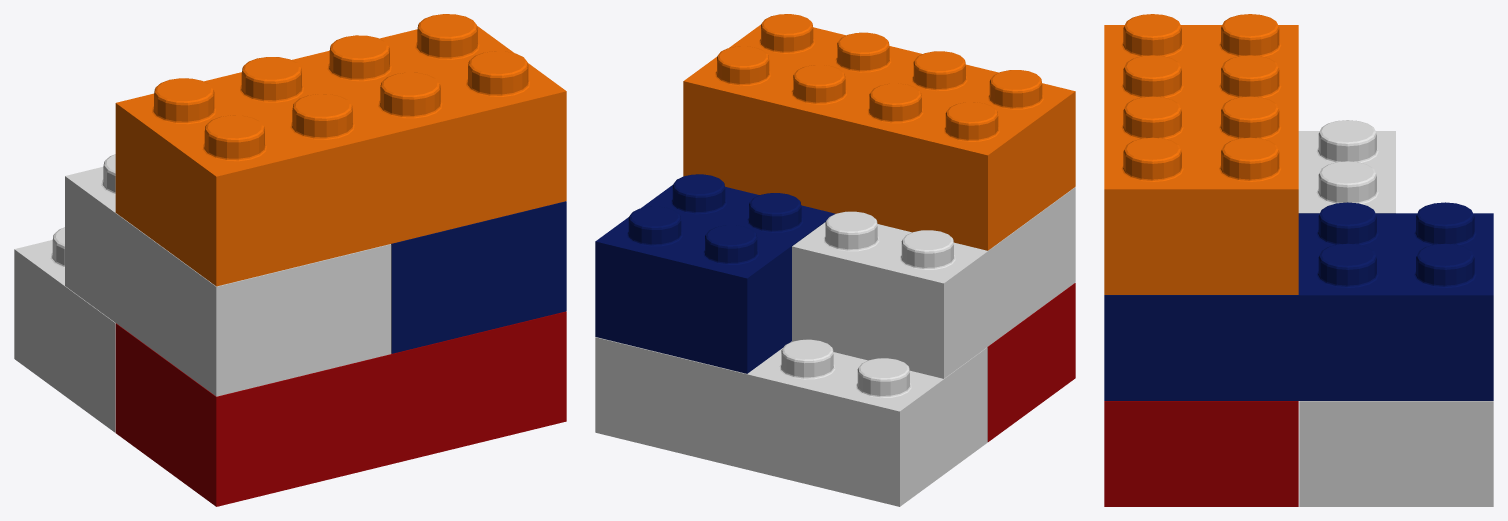
The model's file is mod1.dae.
The picture shows the model from 3 angles, left to right: view 1: azimuth 30°, elevation 25°; view 2: azimuth 150°, elevation 25°; view 3: azimuth 270°, elevation 25°; orthographic projection. The views are drawn at different scales.
Visible parts, largest first — view 1: Part.3, Part.1, Part.4, Part.2, Part.0; view 2: Part.3, Part.0, Part.4, Part.2, Part.1; view 3: Part.2, Part.3, Part.0, Part.1, Part.4.
Boxes of the visible parts, left/top/right/bottom form: Part.3: left=115, top=14, right=566, bottom=286; Part.1: left=115, top=311, right=566, bottom=506; Part.4: left=65, top=154, right=391, bottom=396; Part.2: left=391, top=201, right=566, bottom=353; Part.0: left=14, top=227, right=115, bottom=432; Part.3: left=683, top=14, right=1075, bottom=250; Part.0: left=595, top=337, right=987, bottom=506; Part.4: left=792, top=187, right=1075, bottom=378; Part.2: left=595, top=174, right=835, bottom=373; Part.1: left=987, top=283, right=1075, bottom=441; Part.2: left=1104, top=202, right=1493, bottom=400; Part.3: left=1104, top=14, right=1298, bottom=294; Part.0: left=1299, top=401, right=1493, bottom=506; Part.1: left=1104, top=401, right=1298, bottom=506; Part.4: left=1298, top=120, right=1395, bottom=213.
Size of the model in its own units: 31.92 by 30.58 by 31.92.
